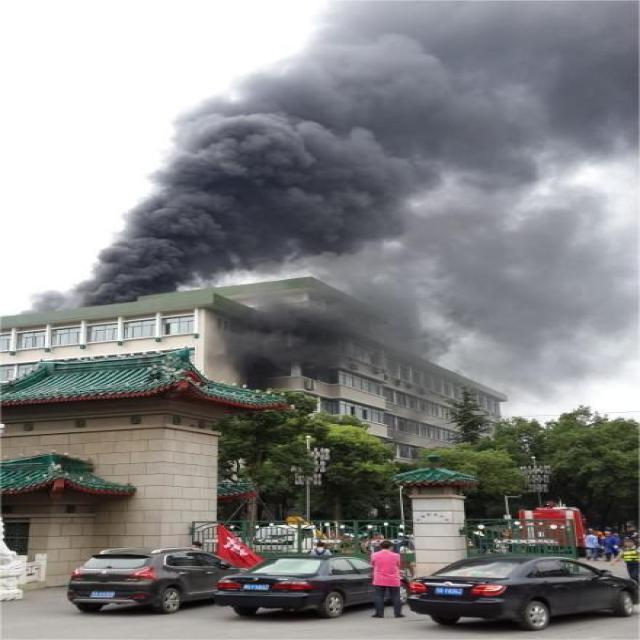Smoke: (19, 0, 640, 309)
